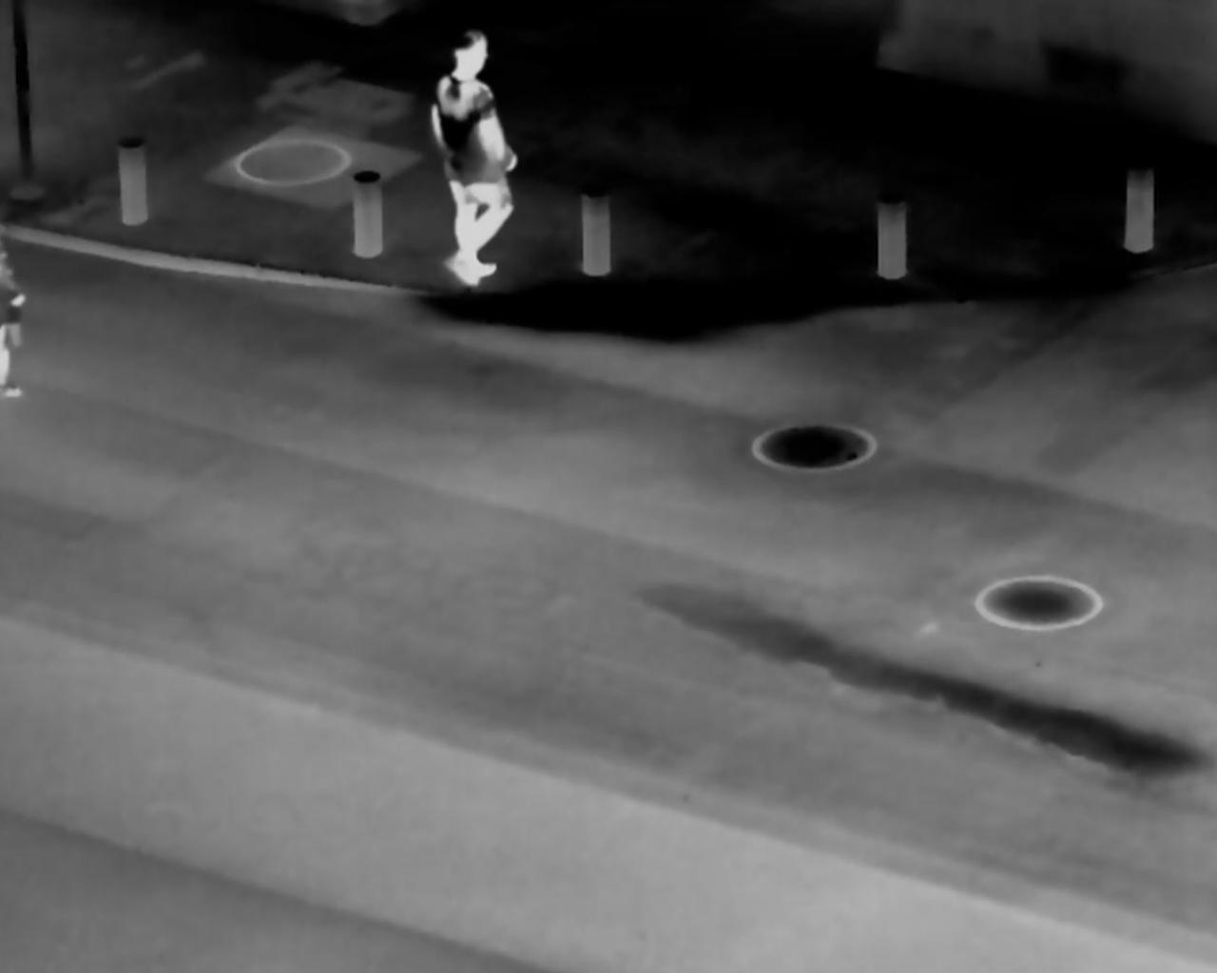person: (422, 27, 520, 286)
